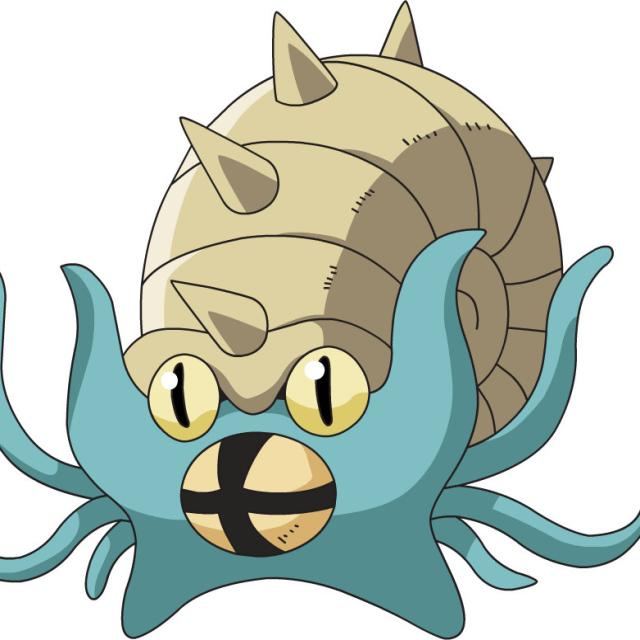Omastar: (66, 19, 560, 625)
